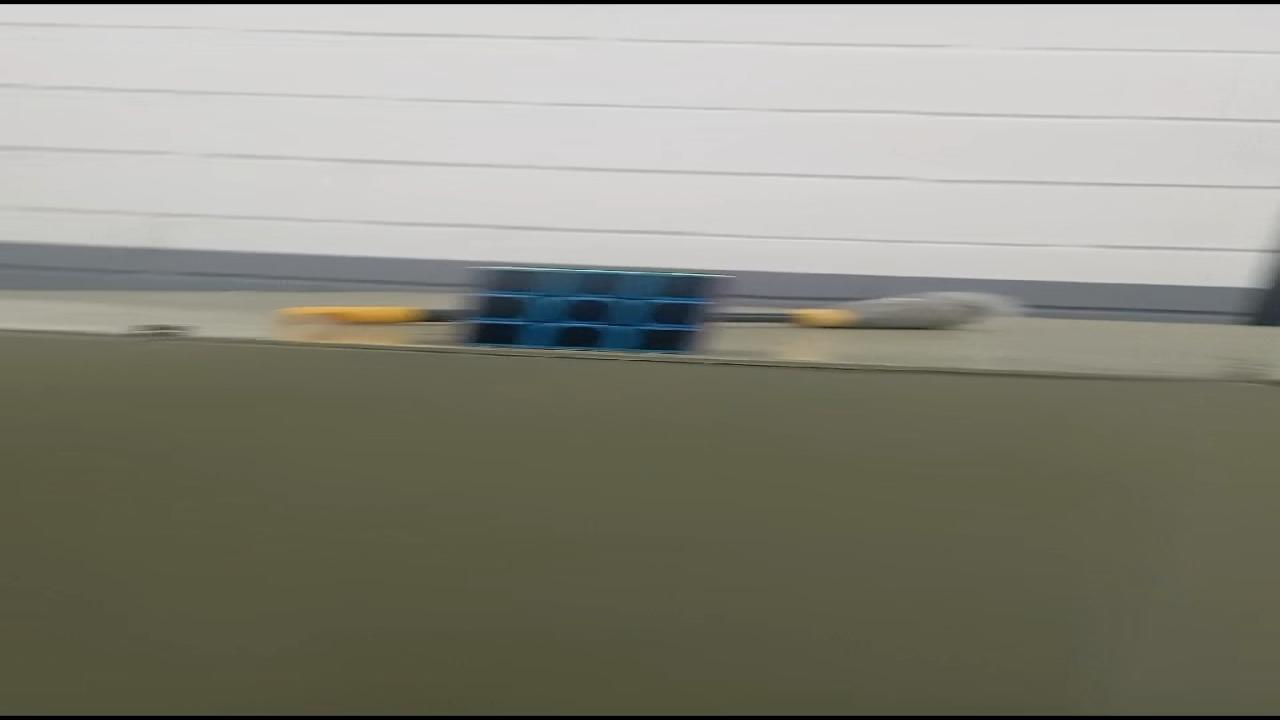Cube: (456, 264, 733, 354)
